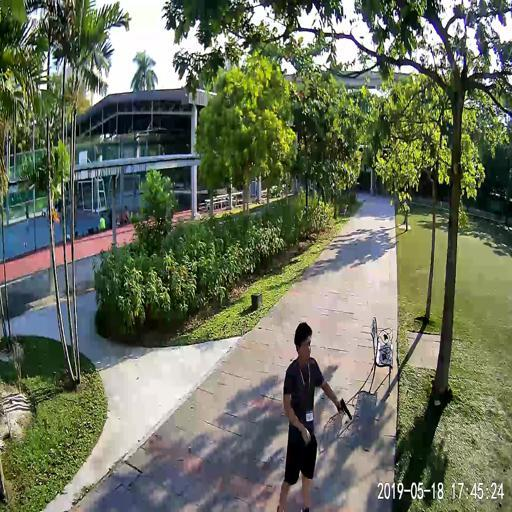Handgun: (335, 395, 352, 419)
